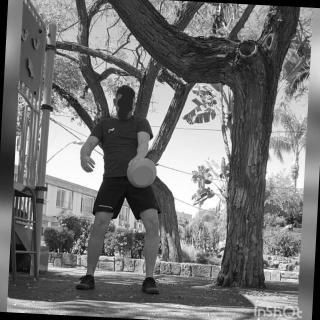kettlebell: (123, 152, 167, 195)
